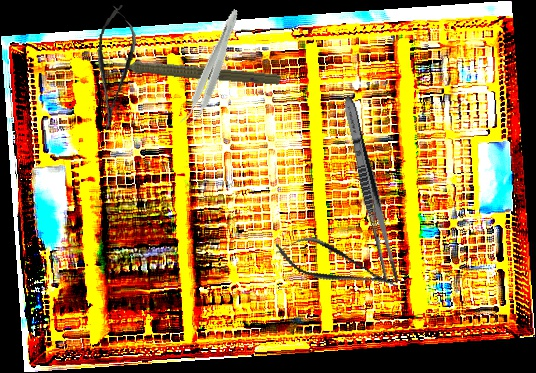Dressing Forceps: (337, 93, 403, 287)
Handpiece: (100, 52, 282, 88)
Micro Scissor: (269, 226, 403, 305), (86, 2, 142, 133)
Tissue Forceps: (179, 5, 244, 130)
